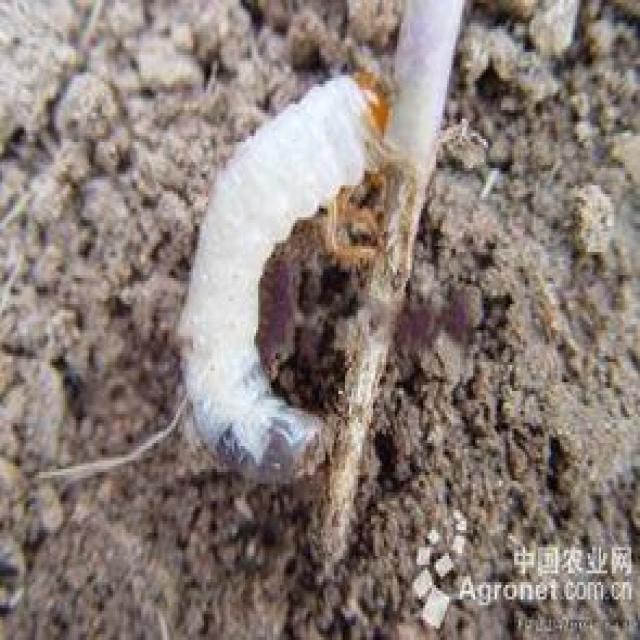Grub-Adult-: (165, 61, 398, 495)
